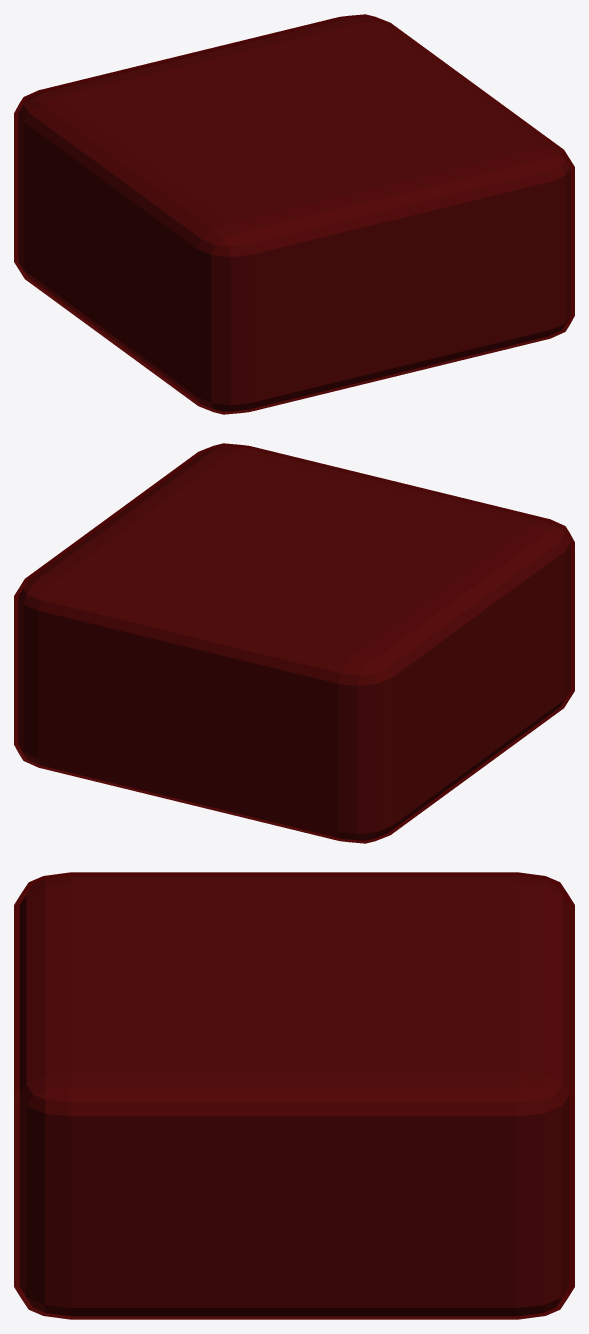
File: quadrado chocolate amargo.glb
3 renders of one model, top to bottom at view 1: azimuth 30°, elevation 25°; view 2: azimuth 150°, elevation 25°; view 3: azimuth 270°, elevation 25°, orthographic. The views are drawn at different scales.
Visible parts, largest first — view 1: Cube.013; view 2: Cube.013; view 3: Cube.013.
Boxes of the visible parts, x1,y1,x2,y2 form: Cube.013: (14, 14, 574, 414); Cube.013: (14, 443, 574, 843); Cube.013: (14, 872, 574, 1319).
Size of the model in its own units: 21.22 by 10.02 by 21.22.
